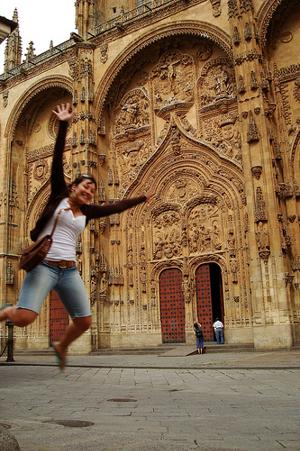person: (1, 100, 149, 377)
